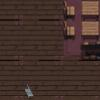Hide: (79, 41, 100, 61)
Obstacle: (58, 0, 79, 21), (58, 20, 79, 41), (79, 20, 100, 41), (80, 0, 100, 21)
Win: (19, 83, 39, 100)
